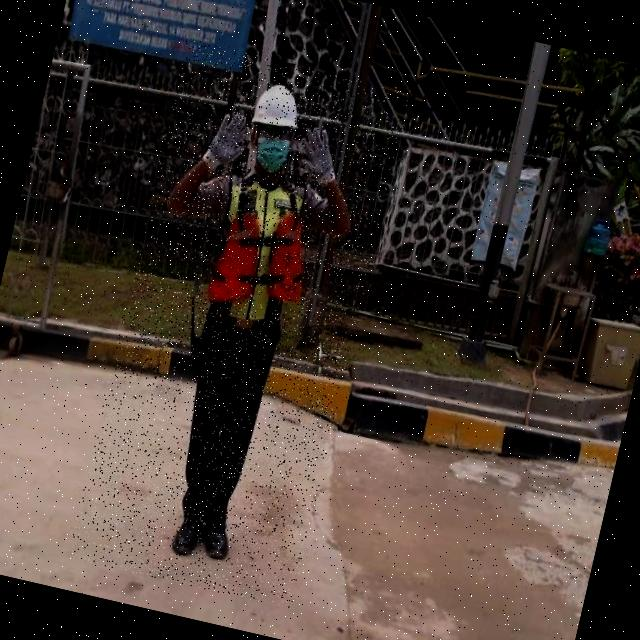boots: (194, 515, 242, 570), (166, 507, 206, 564)
helmet: (245, 70, 312, 142)
vest: (197, 158, 331, 325)
